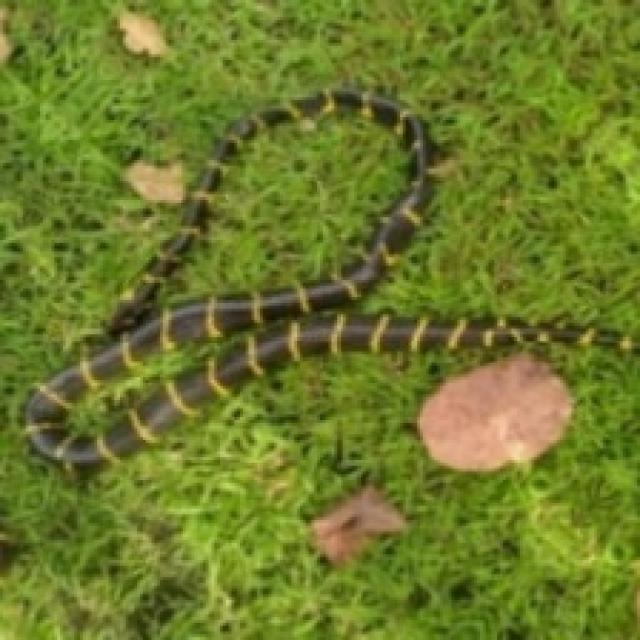mangrove cat snake: (26, 89, 637, 466)
